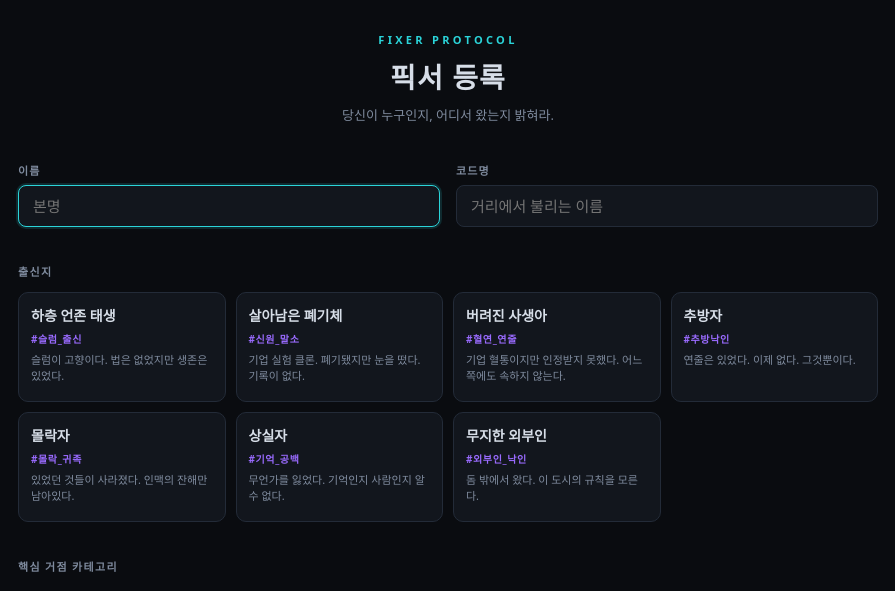
CharacterCreation › 버려진_사생아 선택 시 메가코프 추가 선택 UI가 나타난다
The width and height of the screenshot is (895, 591).
Click the text "버려진 사생아" at point(506, 316), box [466,307,547,325]
(page scrolled)
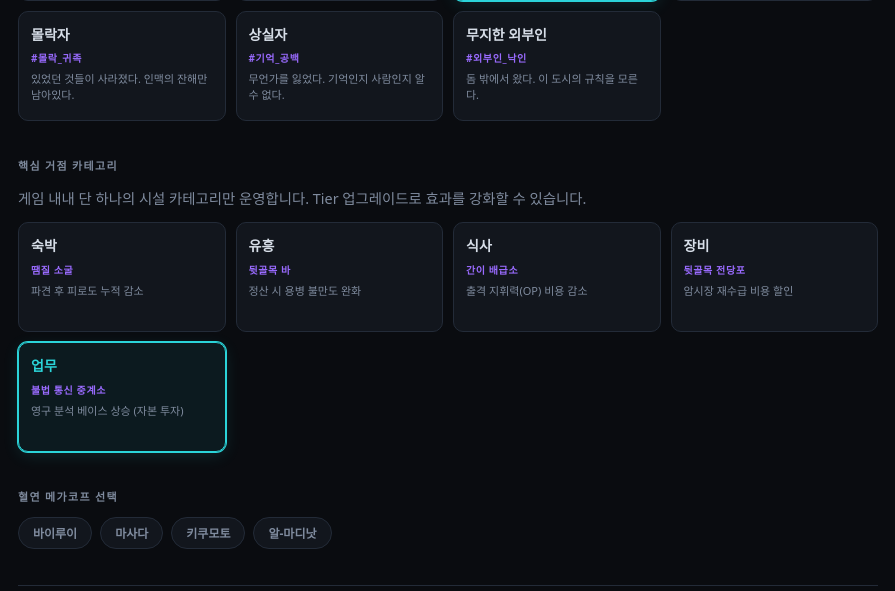
Expected: the text "혈연 메가코프 선택" is shown, [18,489,118,504]
